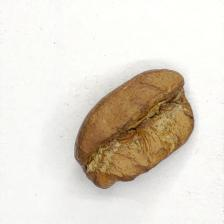NG: (88, 83, 184, 170)
